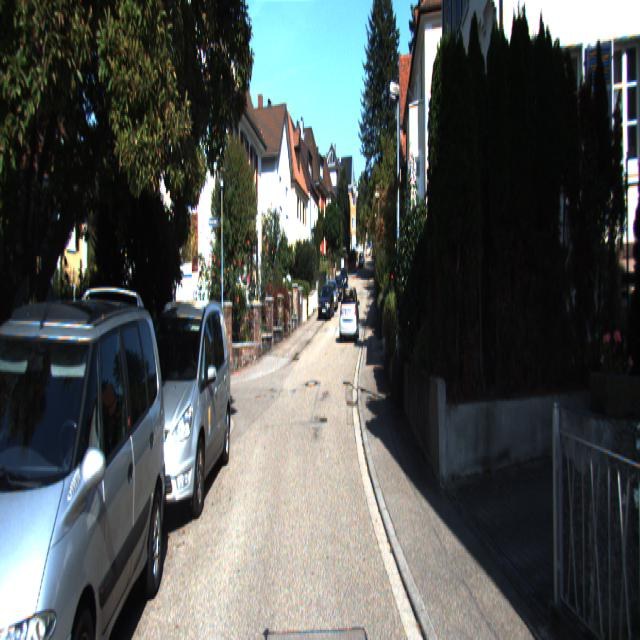Car: (0, 244, 174, 638), (115, 284, 234, 527), (340, 284, 360, 344), (317, 286, 336, 322)
